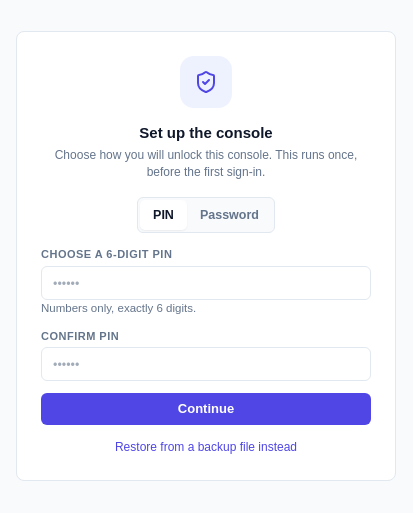
Test: Setup — PIN mode validation › rejects a PIN that isn't exactly 6 digits
The width and height of the screenshot is (413, 513).
Type "123" into the password field labelled "Choose a 6-digit PIN" at [206, 283], box [41,266,371,300]
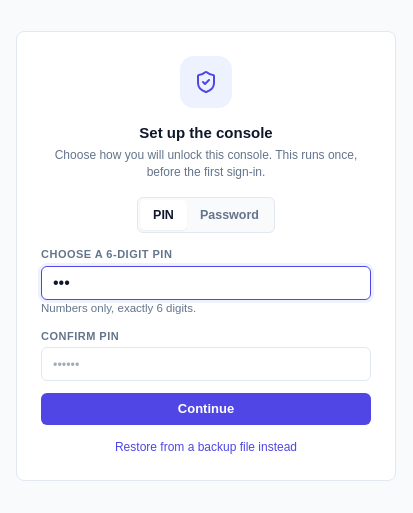
Type "123" into the password field labelled "Confirm PIN" at [206, 364], box [41,347,371,381]
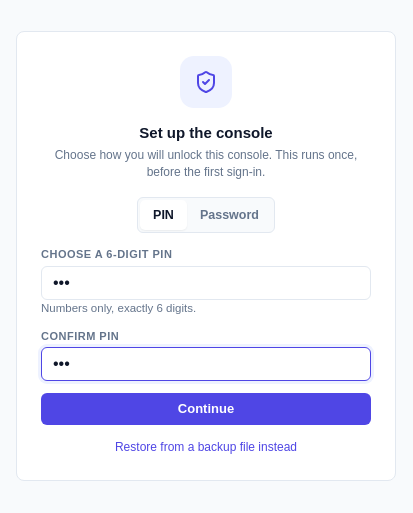
Click the button "Continue" at [206, 409], box [41,393,371,425]
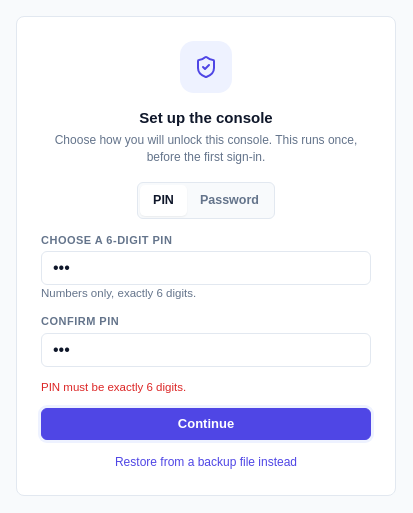
Expected: the text "PIN must be exactly 6 digits." is shown, [41,381,186,393]
